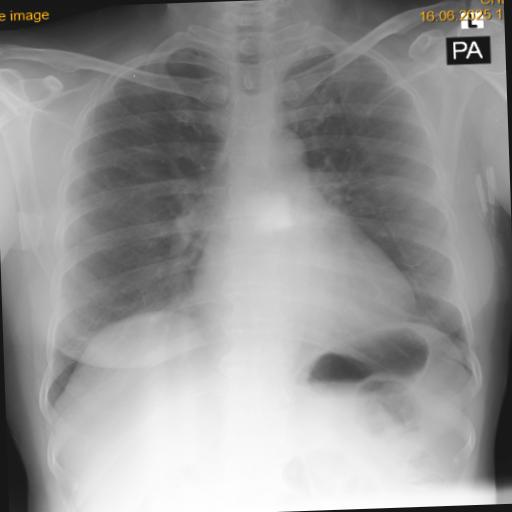kardiomegali: (22, 10, 484, 409)
